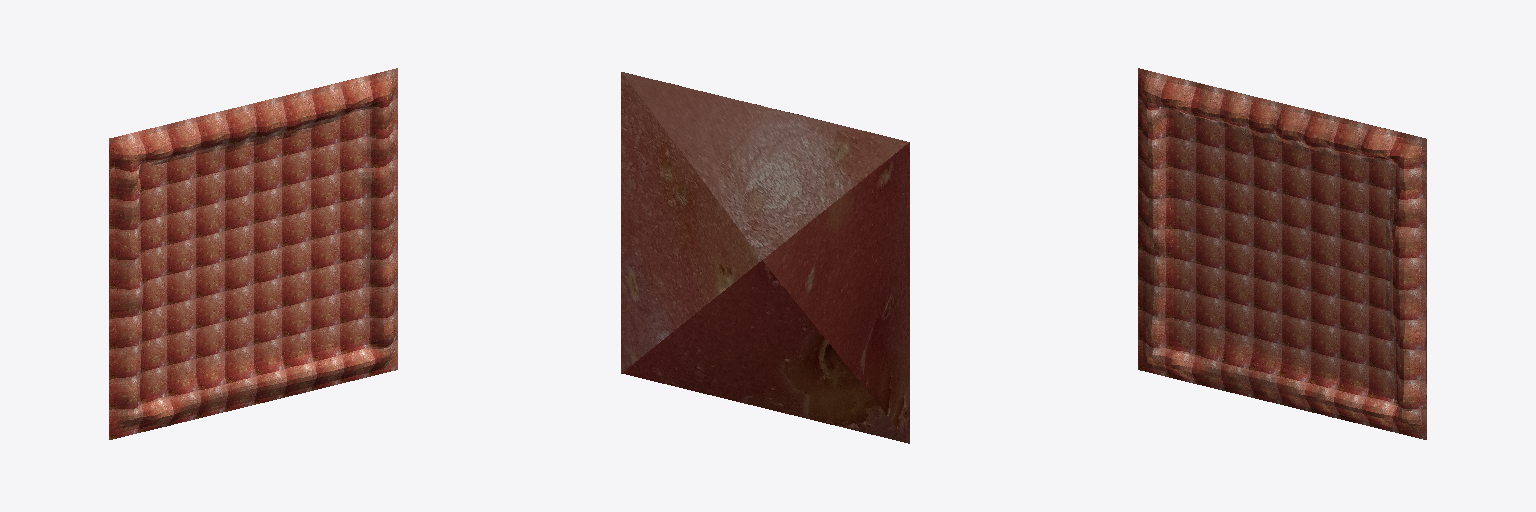
3 renders of one model, left to right at view 1: azimuth 30°, elevation 25°; view 2: azimuth 150°, elevation 25°; view 3: azimuth 330°, elevation 25°, orthographic.
Visible parts, largest first — view 1: ground2.003, ground14.001, ground7.002, ground6, ground6.002, ground4.003, ground10, ground5.001, ground7.003, ground5, ground10.002, ground15.001 (+28 smaller); view 2: back; view 3: ground4.003, ground14.003, ground2.003, ground7.003, ground3.002, ground12.003, ground13.003, ground15.001, ground16.002, ground13.001, ground16.003, ground7.002 (+28 smaller).
Part boxes in pixels (bbox=[...]): ground2.003: bbox=[109, 130, 152, 179]; ground14.001: bbox=[254, 95, 294, 141]; ground7.002: bbox=[181, 338, 217, 384]; ground6: bbox=[109, 394, 152, 439]; ground6.002: bbox=[109, 356, 145, 402]; ground4.003: bbox=[362, 68, 397, 115]; ground10: bbox=[181, 225, 217, 271]; ground5.001: bbox=[181, 263, 217, 309]; ground7.003: bbox=[218, 330, 253, 377]; ground5: bbox=[181, 301, 217, 346]; ground10.002: bbox=[181, 188, 217, 233]; ground15.001: bbox=[362, 181, 397, 229]; back: bbox=[621, 72, 909, 443]; ground4.003: bbox=[1382, 130, 1426, 176]; ground14.003: bbox=[1310, 112, 1353, 158]; ground2.003: bbox=[1138, 68, 1173, 117]; ground7.003: bbox=[1243, 321, 1281, 367]; ground3.002: bbox=[1384, 394, 1426, 439]; ground12.003: bbox=[1318, 338, 1354, 384]; ground13.003: bbox=[1318, 263, 1354, 309]; ground15.001: bbox=[1390, 244, 1426, 289]; ground16.002: bbox=[1318, 225, 1354, 271]; ground13.001: bbox=[1318, 301, 1354, 346]; ground16.003: bbox=[1318, 188, 1354, 233]; ground7.002: bbox=[1210, 312, 1245, 358].
Size of the model in its own units: 1000 by 1000 by 68.47.
Materials: 1 (1 with a texture image).